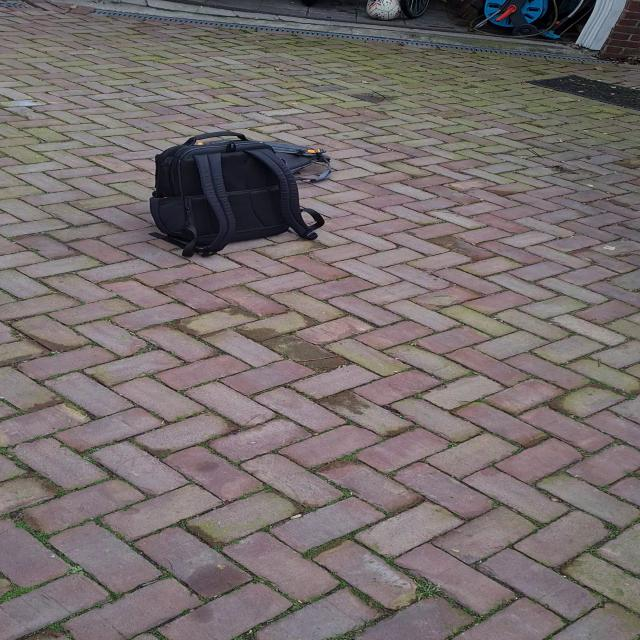backpack: (140, 126, 327, 256), (263, 137, 341, 196)
